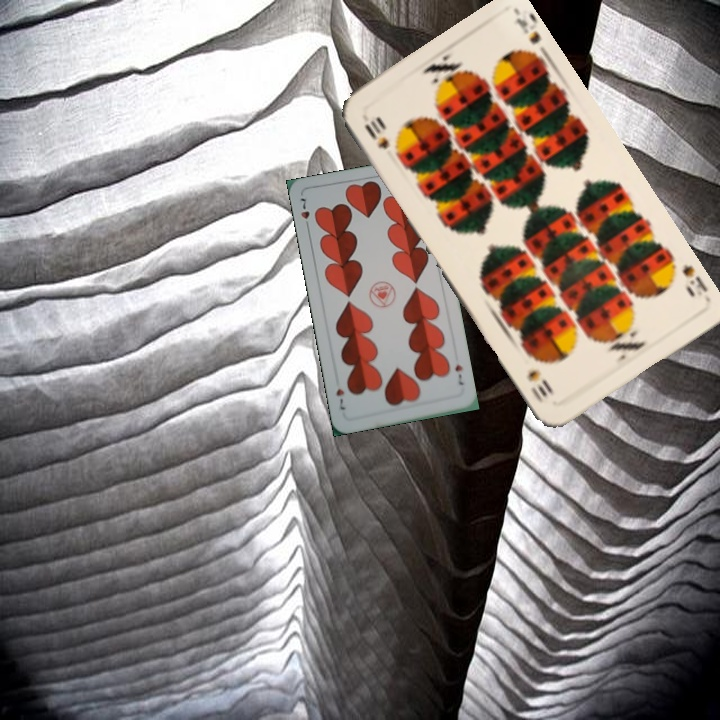H7: (296, 194, 312, 233), (451, 360, 466, 388)
S10: (678, 261, 712, 304), (360, 116, 392, 152)
